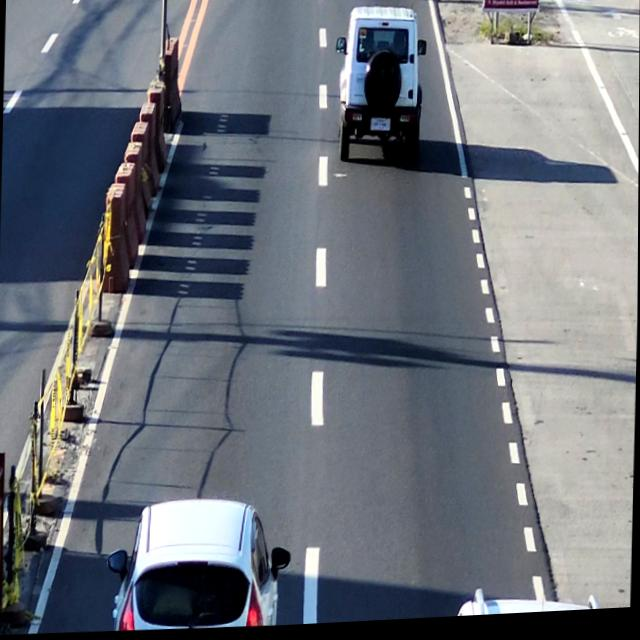Car: (108, 498, 293, 635), (328, 3, 434, 172)
